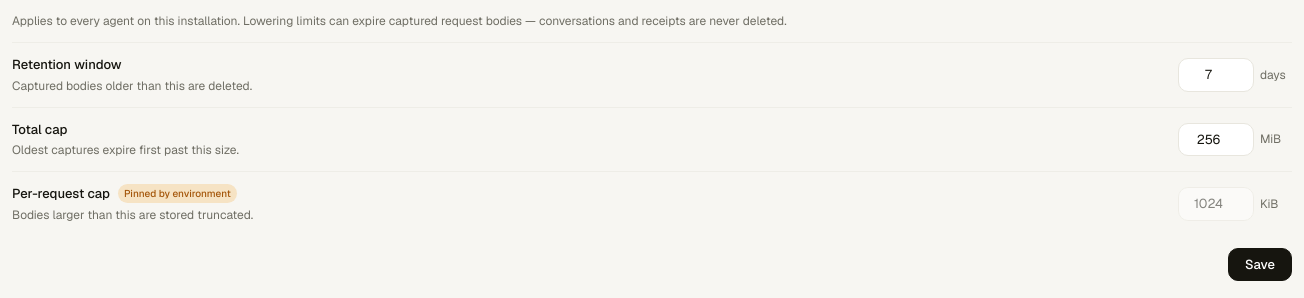
Test case: ContextCaptureSettings policy › rejects invalid input rather than silently clamping
This screenshot has width=1304, height=298.
Step 1. Replace the text in the number field named "Retention window" with "abc" → point(1216, 75), box [1178, 58, 1254, 92]
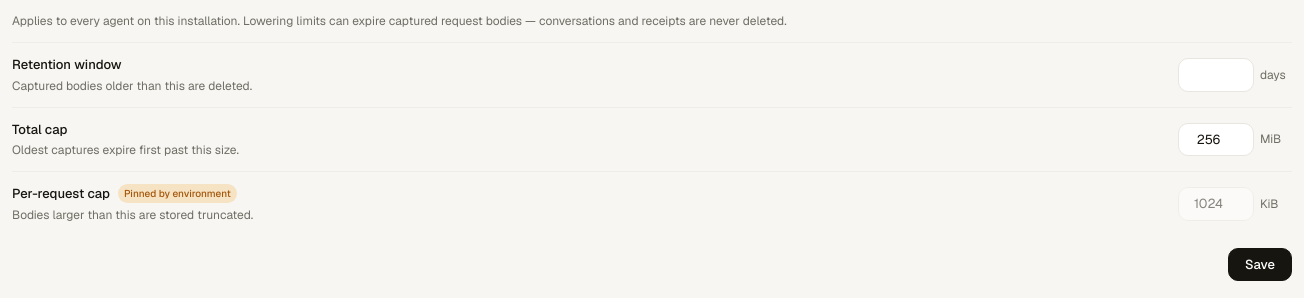
Step 2. Click the button "Save" → point(1260, 264), box [1228, 248, 1292, 281]
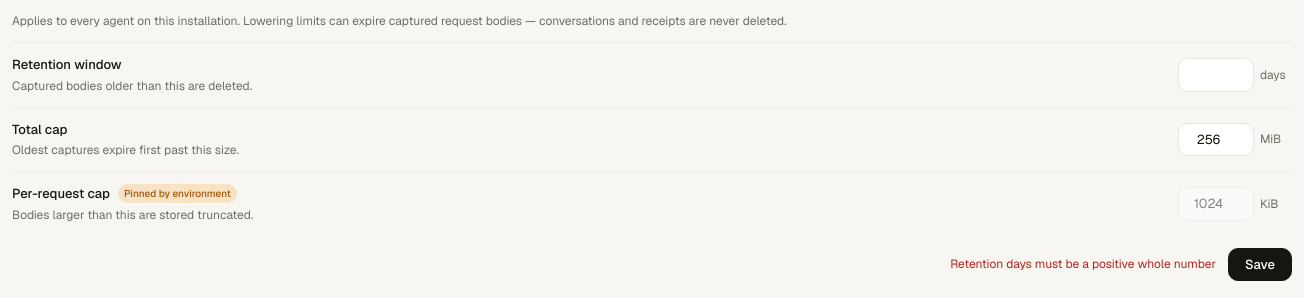
expect the text "Retention days must be a positive whole number" is shown: met, box [950, 255, 1216, 273]
